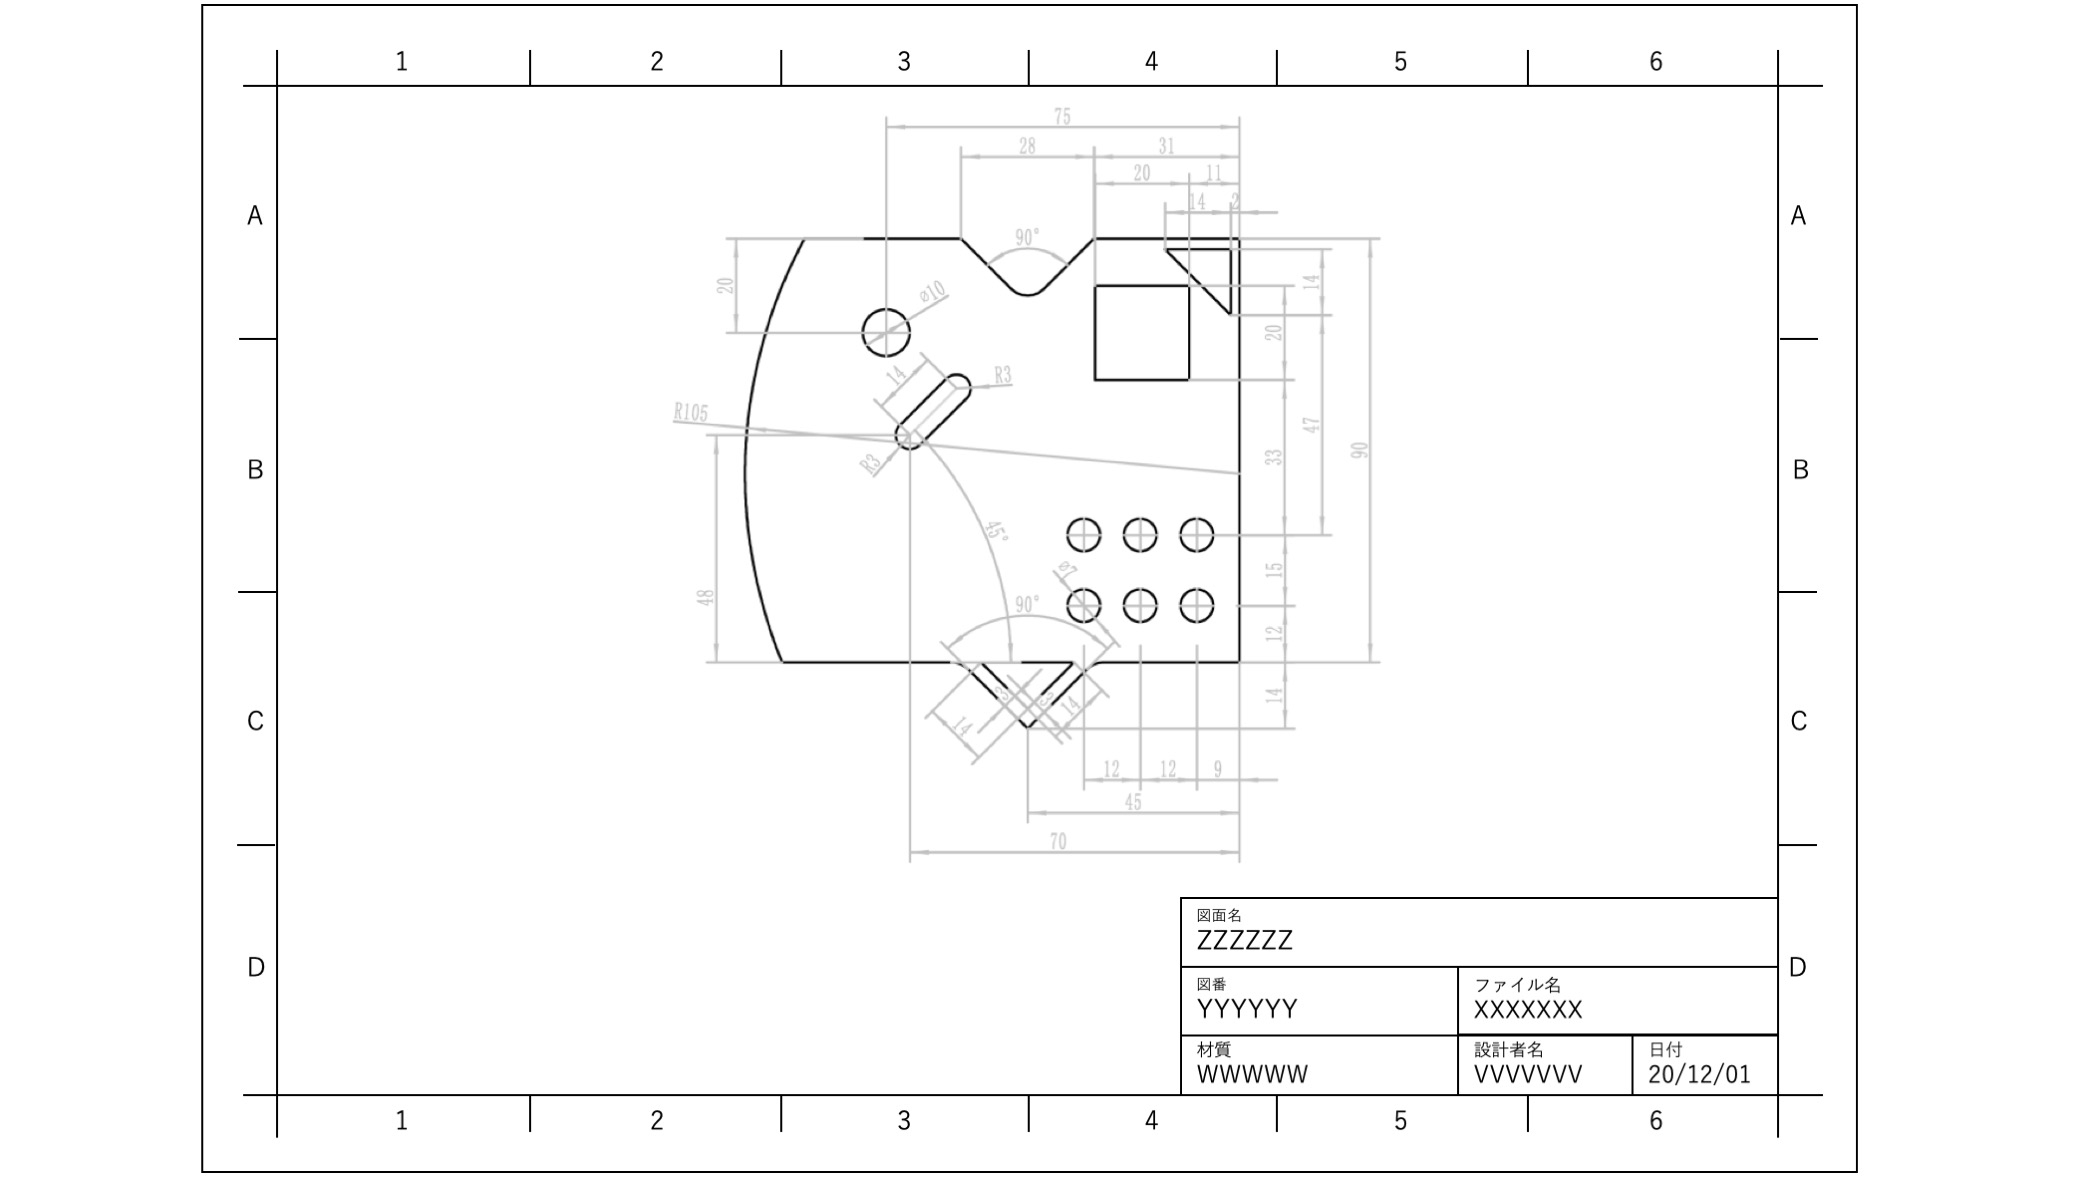circle: (850, 301, 912, 359), (1060, 503, 1115, 561), (1113, 508, 1162, 561), (1178, 505, 1222, 557), (1060, 577, 1106, 622), (1116, 583, 1164, 623), (1173, 575, 1210, 623)
rectangle: (1087, 281, 1199, 392)
round_rectangle: (888, 362, 982, 456)
triangle: (974, 645, 1077, 717), (1157, 231, 1239, 319)
